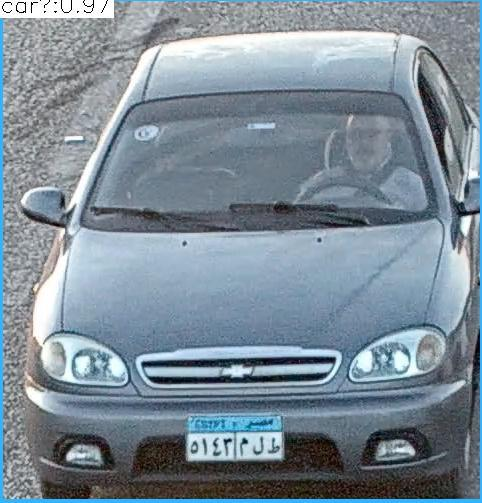windshield: (70, 77, 457, 240)
